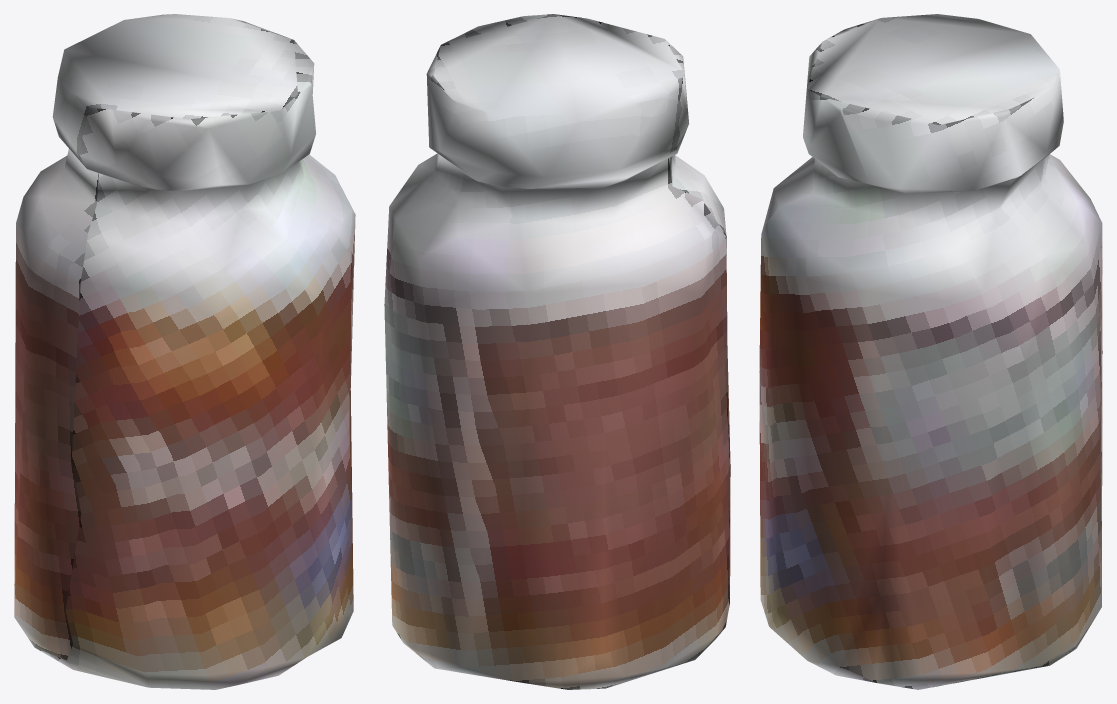
Rendered from Borage_GLA240Gamma_Tocopherol-low.glb.
3 views of the same model, side by side, from view 1: azimuth 30°, elevation 25°; view 2: azimuth 150°, elevation 25°; view 3: azimuth 270°, elevation 25° (orthographic).
Parts seen in each view (by area): view 1: Borage_GLA240Gamma_Tocopherol; view 2: Borage_GLA240Gamma_Tocopherol; view 3: Borage_GLA240Gamma_Tocopherol.
Boxes of the visible parts, x1=… form: Borage_GLA240Gamma_Tocopherol: x1=14, y1=14, x2=355, y2=689; Borage_GLA240Gamma_Tocopherol: x1=384, y1=14, x2=730, y2=689; Borage_GLA240Gamma_Tocopherol: x1=759, y1=14, x2=1102, y2=689.
Size of the model in its own units: 0.0616 by 0.1104 by 0.0612.
Materials: 1 (1 with a texture image).
